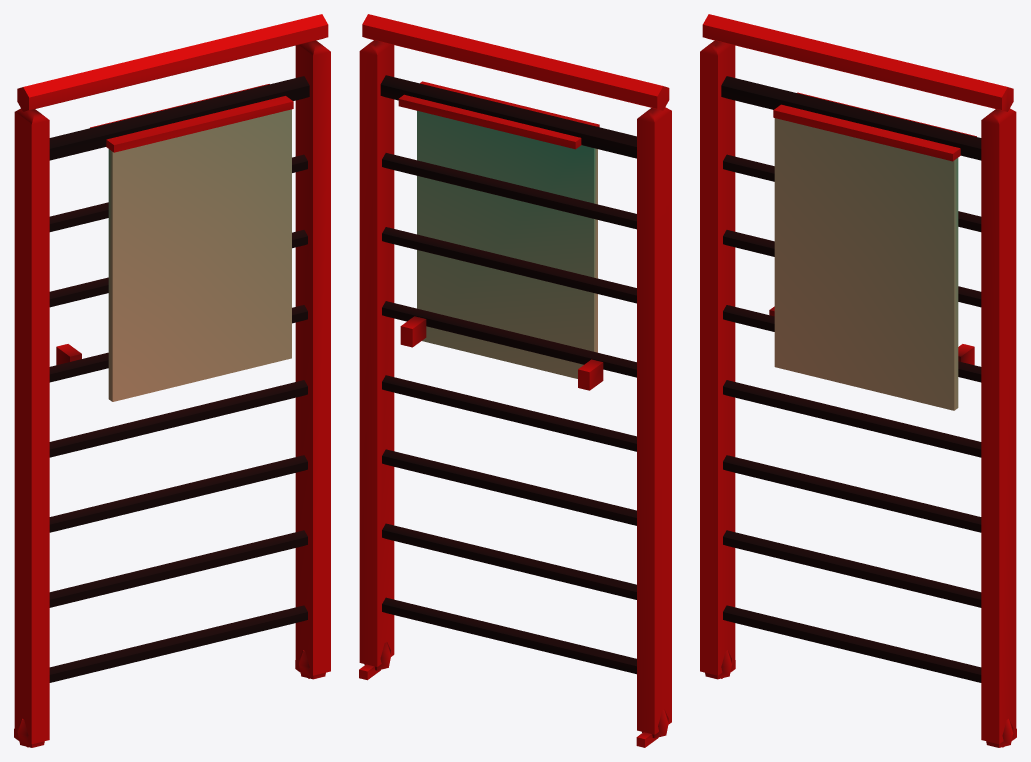
Rendered from CI_Bathroom_TowelRadiator.glb.
3 views of the same model, side by side, from view 1: azimuth 30°, elevation 25°; view 2: azimuth 150°, elevation 25°; view 3: azimuth 330°, elevation 25° (orthographic).
Parts seen in each view (by area): view 1: CI_Bathroom_TowelRadiator; view 2: CI_Bathroom_TowelRadiator; view 3: CI_Bathroom_TowelRadiator.
Boxes of the visible parts, bbox=[...] form: CI_Bathroom_TowelRadiator: bbox=[14, 14, 330, 747]; CI_Bathroom_TowelRadiator: bbox=[359, 14, 671, 747]; CI_Bathroom_TowelRadiator: bbox=[700, 14, 1016, 747].
Size of the model in its own units: 0.518 by 1.06 by 0.098.
